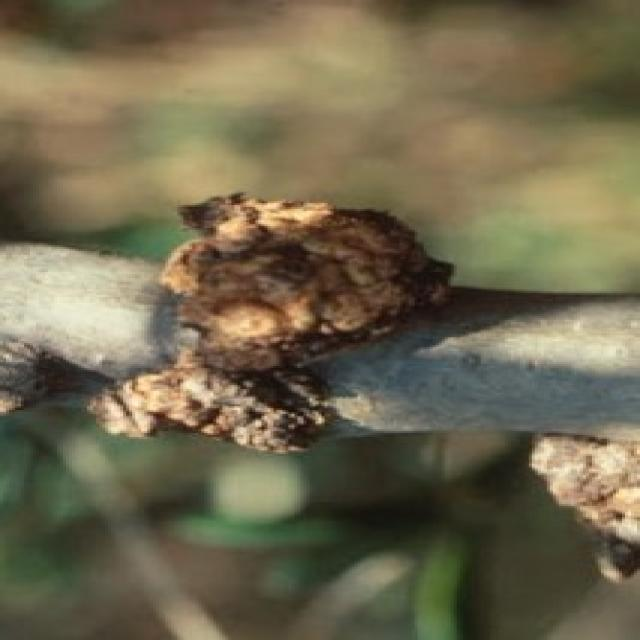Tuberculosis: (87, 194, 451, 450), (529, 437, 637, 582)
